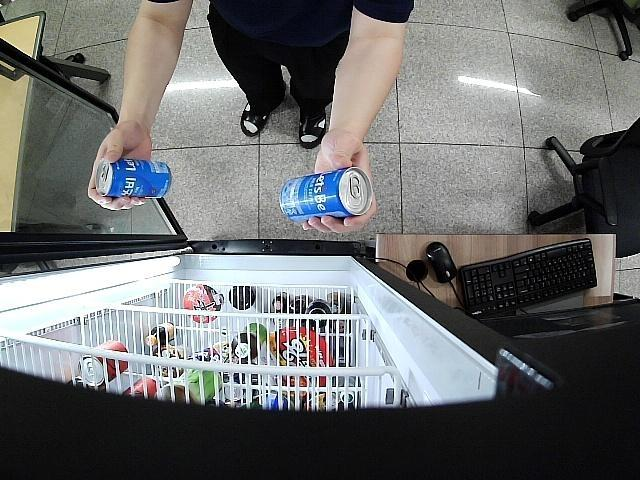15_letsbe: (279, 166, 373, 221), (95, 157, 173, 200)
